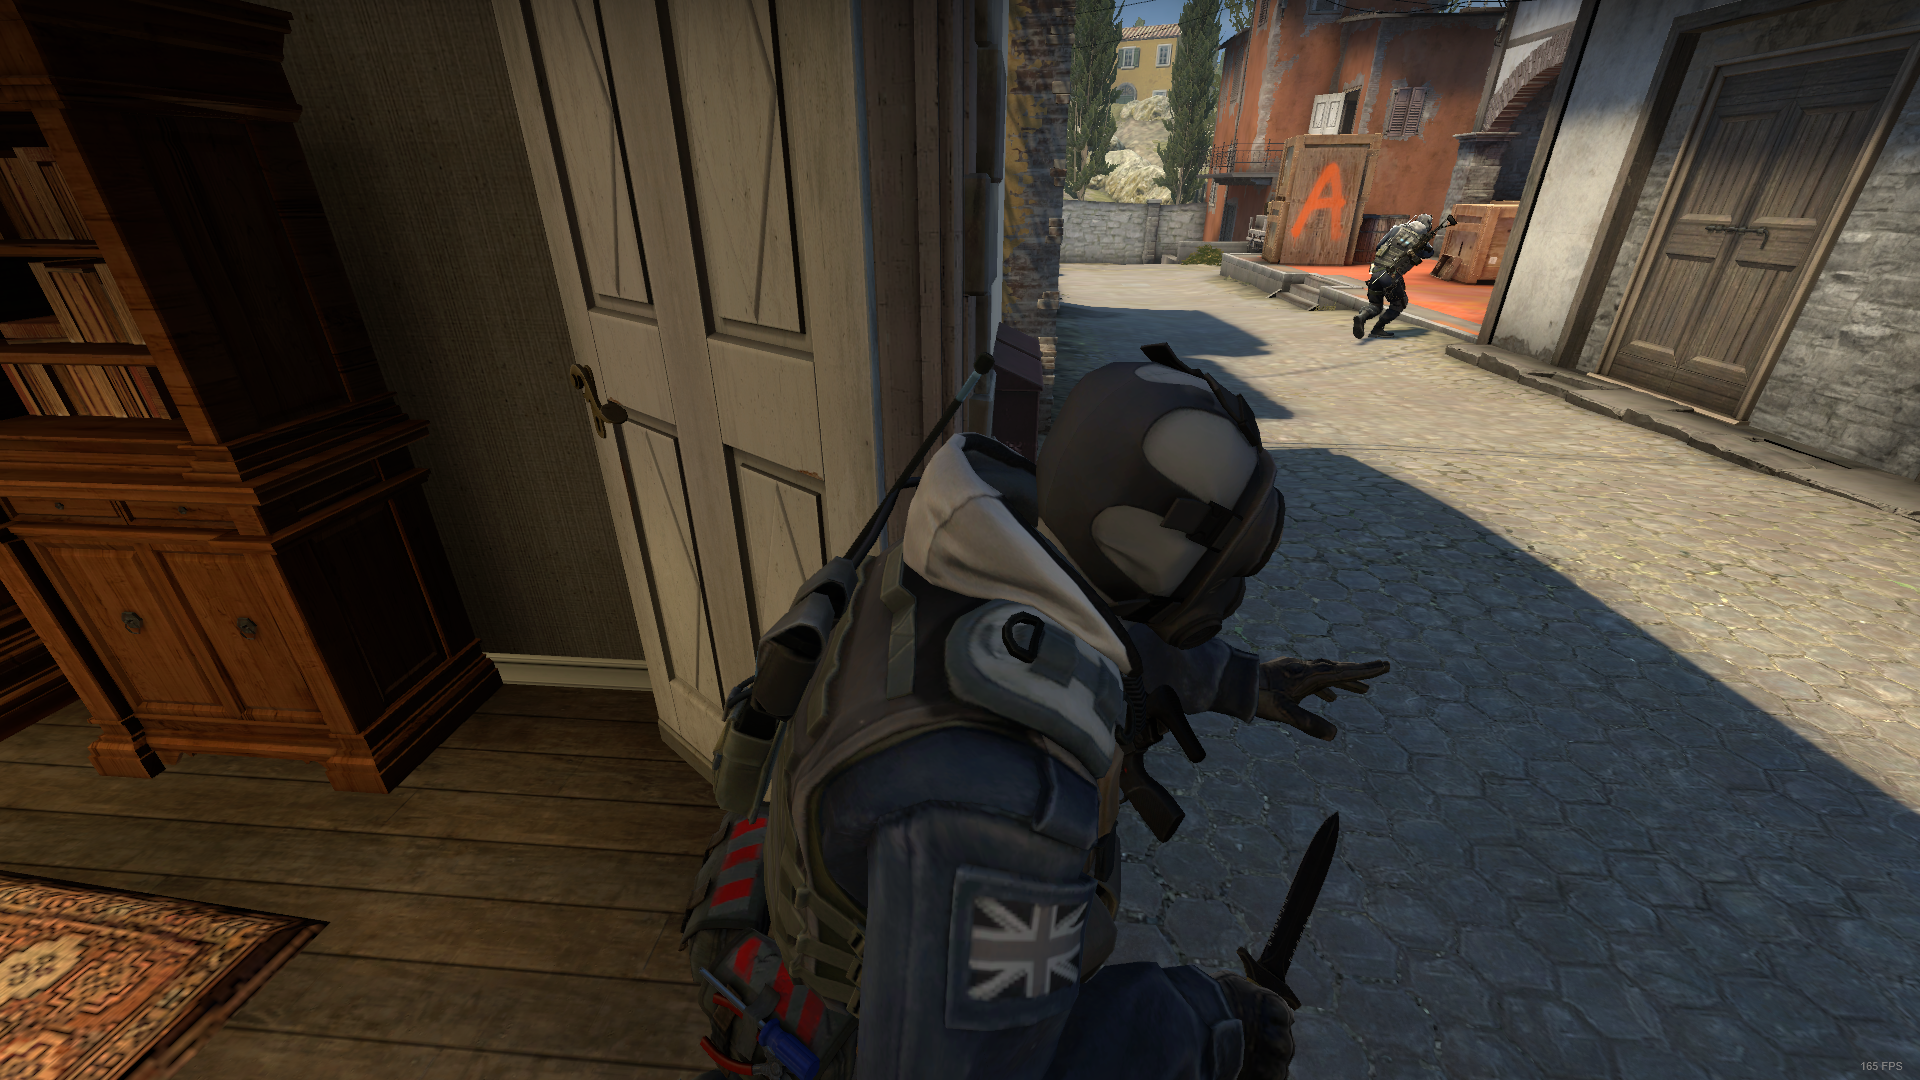ct: (688, 363, 1387, 1080), (1352, 212, 1433, 353)
